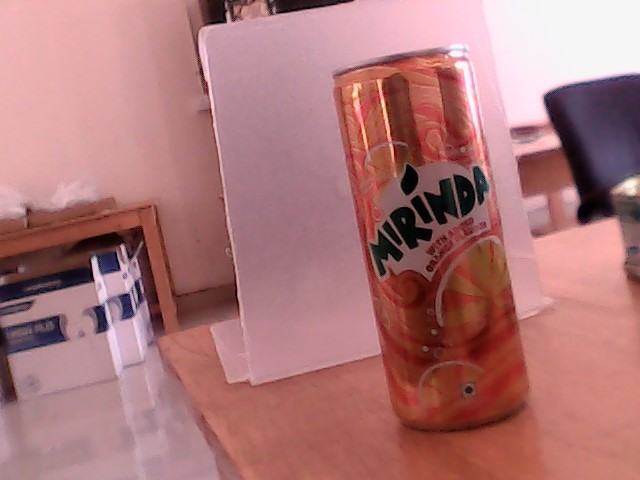Metal: (317, 59, 572, 480)
